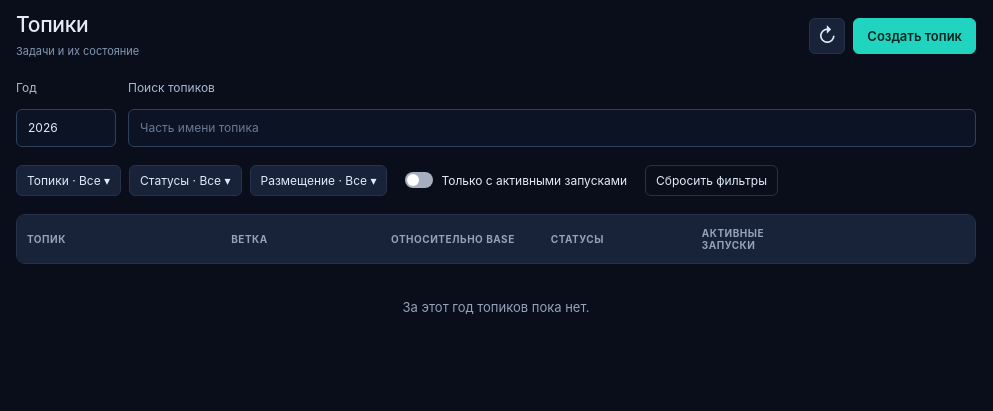
Scenario: Topics timeout preserves filters, allows retry, and rejects old late errors
The width and height of the screenshot is (993, 411).
In the search field: (552, 128) [128,109,976,147], type "draft filter"
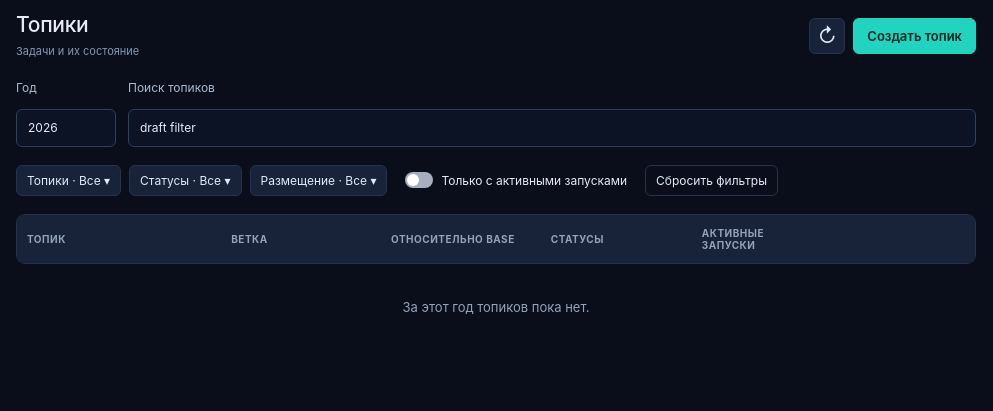
Click the button named "Обновить список": (827, 36) [809,18,845,54]
Wait 300001 ms
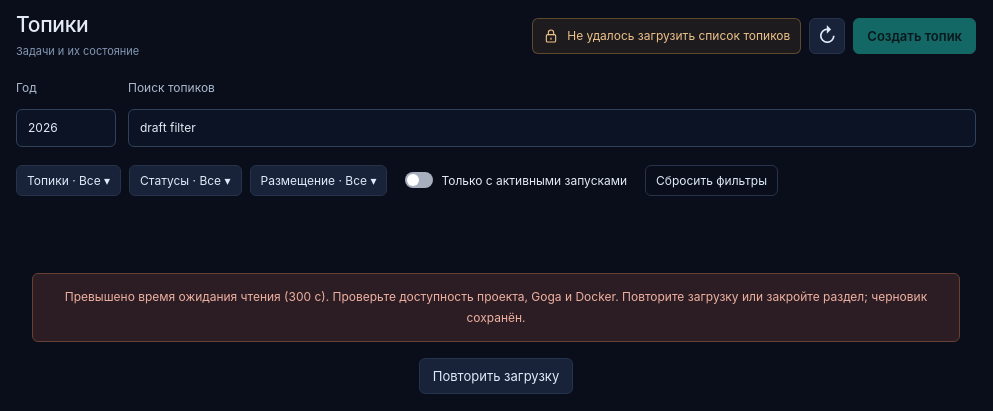
Result: the message shows "Превышено время ожидания" at [65,289,930,325]
Click the button "Повторить загрузку": (496, 376) [419,358,573,394]
Wait 1 ms
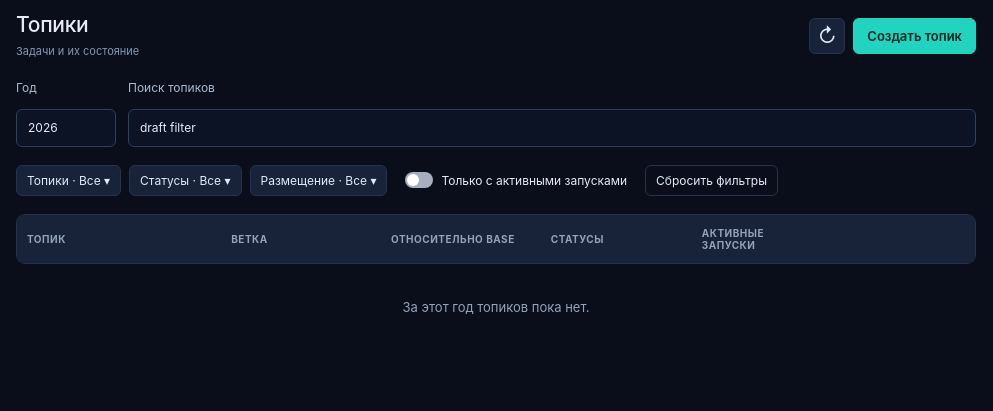
Result: the text "late error" is gone
